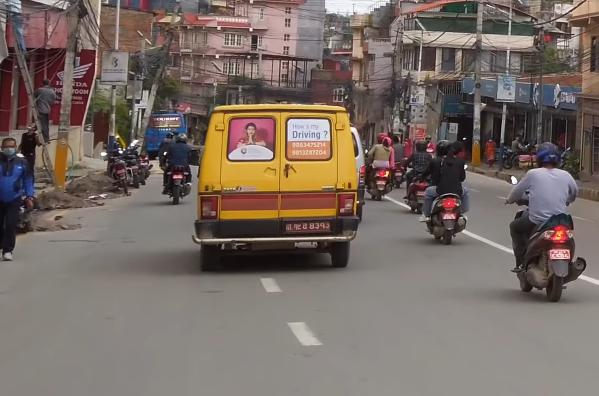bike: (161, 148, 194, 209), (101, 148, 135, 198)
school_bus: (196, 97, 364, 277)
scooter: (502, 173, 588, 304), (419, 163, 471, 246)
